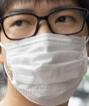with_mask: (1, 1, 89, 106)
